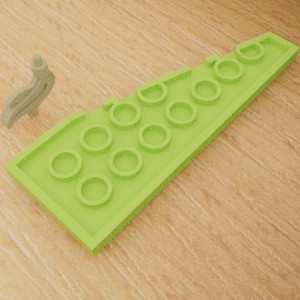lego: (3, 31, 299, 256), (0, 53, 55, 129)
